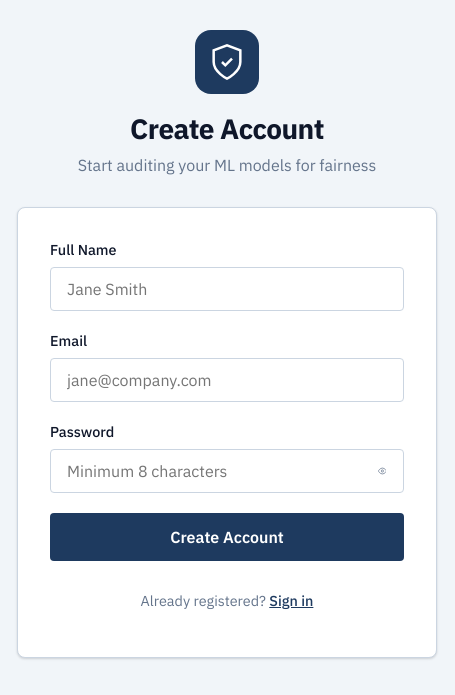
it: RegisterPage › shows success screen with API key after registration
This screenshot has width=455, height=695.
Type "Test User" into the field labelled "Full Name". click: (227, 289)
box: [50,267,404,311]
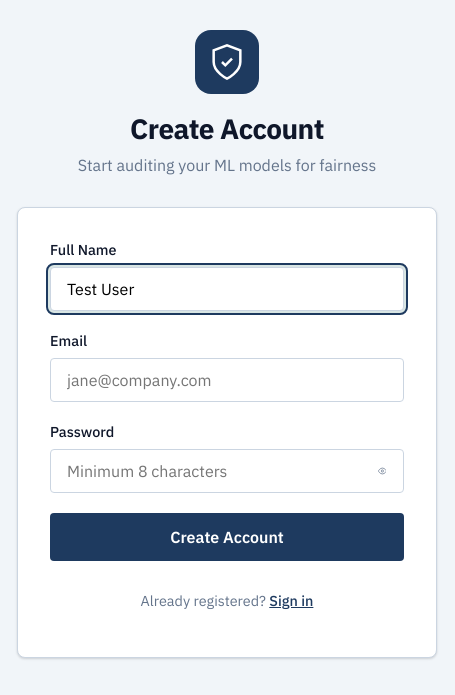
Type "test@example.com" into the field labelled "Email". click: (227, 380)
box: [50,358,404,402]
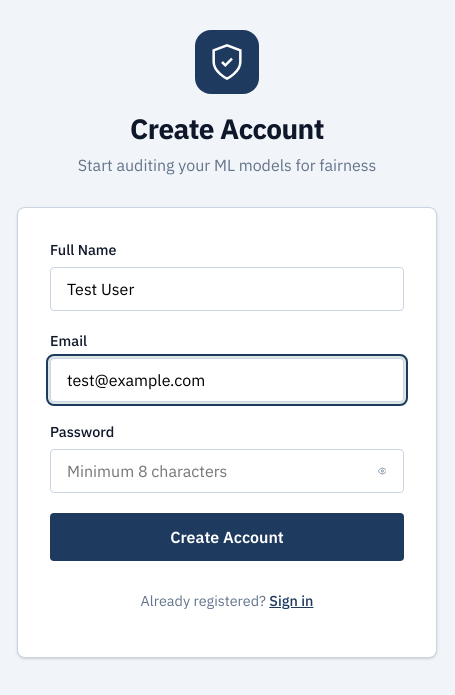
Type "password123" into the password field labelled "Password". click: (227, 471)
box: [50,449,404,493]
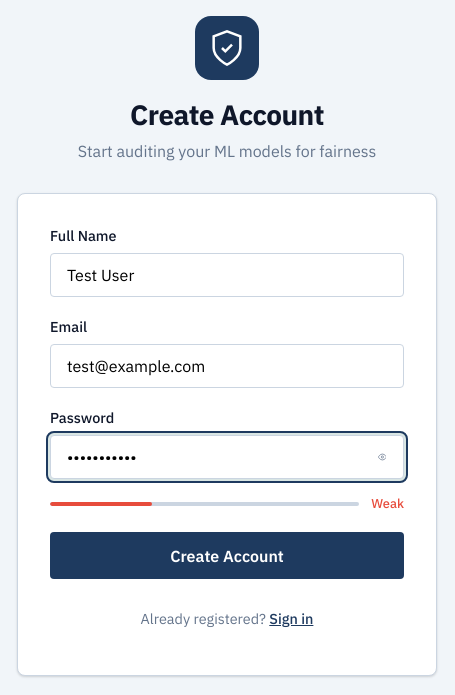
Click the button "Create Account". click: (227, 556)
box: [50,532,404,579]
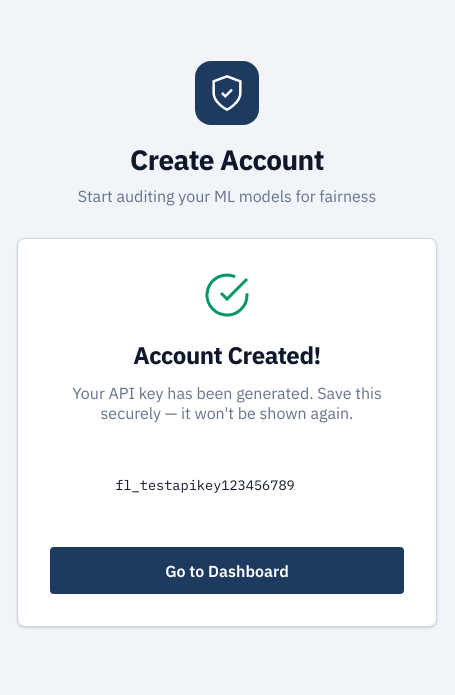
Expected: the heading "Account Created!" is shown, [133,339,321,371]
